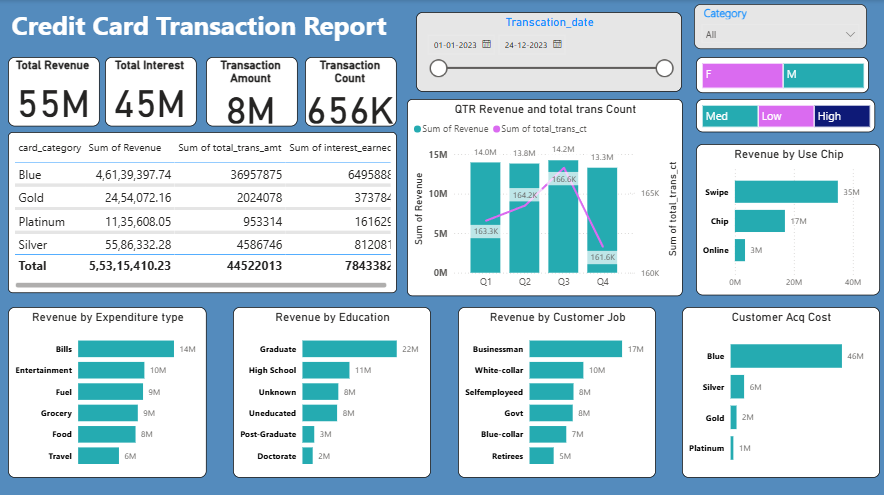

What the dashboard file says about the page in this screenshot:
{"tool":"powerbi","page":{"name":"CC Transaction ","canvas":[1280,720],"ordinal":1},"visuals":[{"type":"lineStackedColumnComboChart","title":"QTR Revenue and total trans Count","fields":{"Category":["public cc_detail.qtr"],"Y":["Sum(public cc_detail.Revenue)"],"Y2":["Sum(public cc_detail.total_trans_ct)"]},"box":[591.2,142.4,396.9,283.5],"z":0},{"type":"textbox","box":[16.9,6,574.3,60.3],"z":1000},{"type":"barChart","title":"Revenue by Expenditure type","fields":{"Category":["public cc_detail.exp_type"],"Y":["Sum(public cc_detail.Revenue)"]},"box":[16.9,441.6,285.9,246.1],"z":2000},{"type":"tableEx","fields":{"Values":["public cc_detail.card_category","Sum(public cc_detail.Revenue)","Sum(public cc_detail.total_trans_amt)","Sum(public cc_detail.interest_earned)"]},"box":[16.9,190.6,559.8,231.6],"z":3000},{"type":"card","title":"Total Revenue","fields":{"Values":["Sum(public cc_detail.Revenue)"]},"box":[16.9,82,131.5,100],"z":4000},{"type":"card","title":"Total Interest","fields":{"Values":["Sum(public cc_detail.total_trans_amt)"]},"box":[156.8,82,131.5,100],"z":5000},{"type":"card","title":"Transaction Amount","fields":{"Values":["Sum(public cc_detail.interest_earned)"]},"box":[302.8,82,131.5,100],"z":6000},{"type":"card","title":"Transaction Count","fields":{"Values":["Sum(public cc_detail.total_trans_ct)"]},"box":[445.2,82,131.5,100.1],"z":7000},{"type":"slicer","fields":{"Values":["public cc_detail.exp_type","public cc_detail.client_num"]},"box":[1005.1,5.8,249.1,64.8],"z":9000},{"type":"slicer","title":"Transcation_date","fields":{"Values":["public cc_detail.week_start_date"]},"box":[604.8,17.3,383,115.2],"z":10000},{"type":"treemap","fields":{"Values":["Avg(public cc_detail.client_num)"],"Group":["public cust_detail.gender"]},"box":[1008,82.1,249.1,51.8],"z":11000},{"type":"treemap","fields":{"Values":["Avg(public cc_detail.client_num)"],"Group":["public cust_detail.IncomeGroup"]},"box":[1008,142.6,257.8,47.5],"z":12000},{"type":"clusteredBarChart","title":"Revenue by Education","fields":{"Y":["Sum(public cc_detail.Revenue)"],"Category":["public cust_detail.education_level"]},"box":[341.4,441.6,284.7,246.1],"z":13000},{"type":"clusteredBarChart","title":"Revenue by Customer Job","fields":{"Y":["Sum(public cc_detail.Revenue)"],"Category":["public cust_detail.customer_job"]},"box":[664.7,441.6,284.7,246.1],"z":14000},{"type":"clusteredBarChart","title":"Customer Acq Cost ","fields":{"Y":["Sum(public cc_detail.Revenue)"],"Category":["public cc_detail.card_category"]},"box":[988.1,441.6,284.7,246.1],"z":15000},{"type":"clusteredBarChart","title":"Revenue by Use Chip","fields":{"Y":["Sum(public cc_detail.Revenue)"],"Category":["public cc_detail.use_chip"]},"box":[1007.4,207.5,265.4,218.4],"z":16000}]}

Visuals, with their boxes in screenshot pixels (x1, y1, x2, y2), scaled from the page's 1280x720 canvas onto the 884x495 screenshot:
"QTR Revenue and total trans Count" lineStackedColumnComboChart: Rect(408, 98, 682, 293)
textbox: Rect(12, 4, 408, 46)
"Revenue by Expenditure type" barChart: Rect(12, 304, 209, 473)
tableEx - public cc_detail.card_category x Sum(public cc_detail.Revenue): Rect(12, 131, 398, 290)
"Total Revenue" card: Rect(12, 56, 102, 125)
"Total Interest" card: Rect(108, 56, 199, 125)
"Transaction Amount" card: Rect(209, 56, 300, 125)
"Transaction Count" card: Rect(307, 56, 398, 125)
slicer - public cc_detail.exp_type x public cc_detail.client_num: Rect(694, 4, 866, 49)
"Transcation_date" slicer: Rect(418, 12, 682, 91)
treemap - Avg(public cc_detail.client_num) x public cust_detail.gender: Rect(696, 56, 868, 92)
treemap - Avg(public cc_detail.client_num) x public cust_detail.IncomeGroup: Rect(696, 98, 874, 131)
"Revenue by Education" clusteredBarChart: Rect(236, 304, 432, 473)
"Revenue by Customer Job" clusteredBarChart: Rect(459, 304, 656, 473)
"Customer Acq Cost " clusteredBarChart: Rect(682, 304, 879, 473)
"Revenue by Use Chip" clusteredBarChart: Rect(696, 143, 879, 293)
